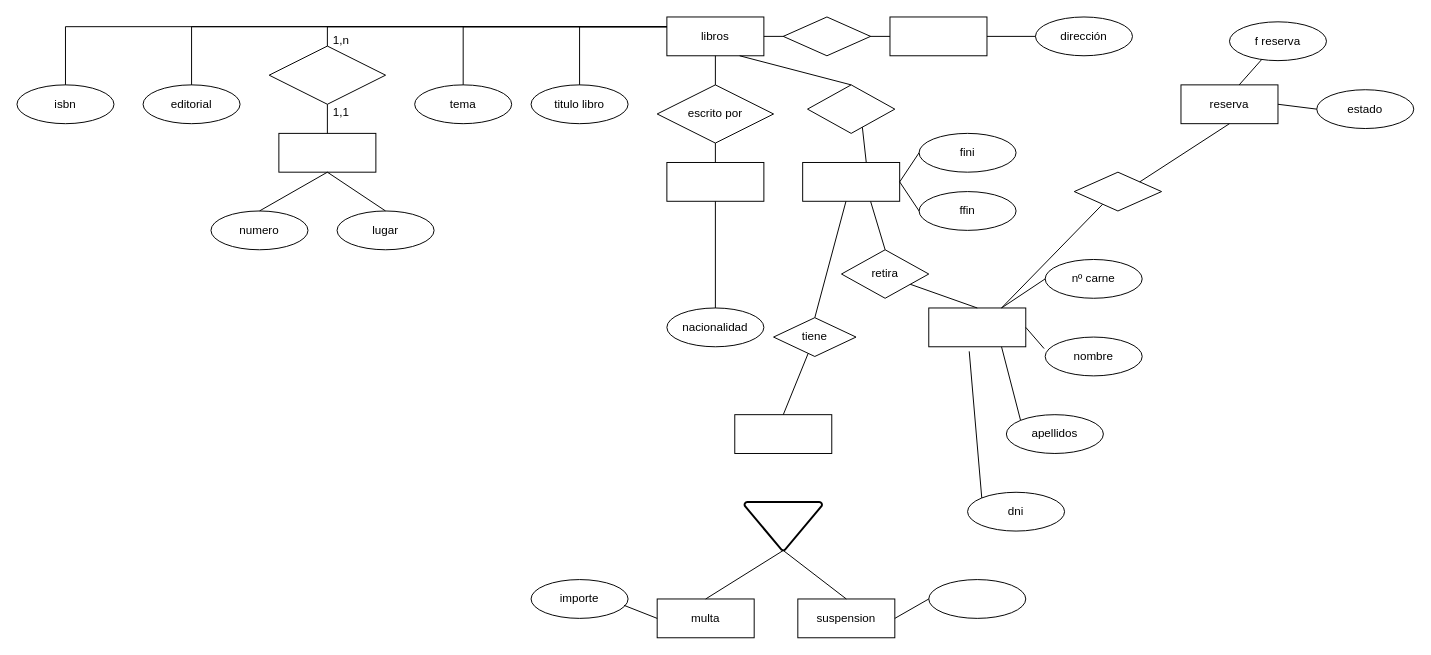
Some shapes in this 1431 by 655 pixel diagram are drawn without their labels. The box of each missing label's shape, as (x1, y1, x2, y2) in pixels:
autor: (666, 162, 764, 201)
editoriales: (889, 16, 987, 56)
es: (807, 84, 895, 133)
estanteria: (278, 132, 376, 172)
isa: (743, 501, 823, 551)
penalización: (734, 414, 832, 453)
pertenece: (782, 16, 871, 56)
prestamo: (802, 162, 900, 201)
realiza: (1073, 171, 1162, 211)
tiempo: (928, 579, 1026, 618)
tienen: (268, 45, 386, 104)
usuario: (928, 307, 1026, 347)
